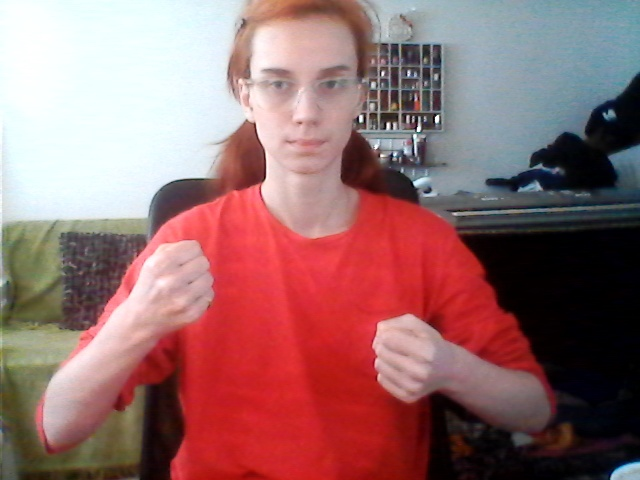auto: (143, 236, 451, 410)
